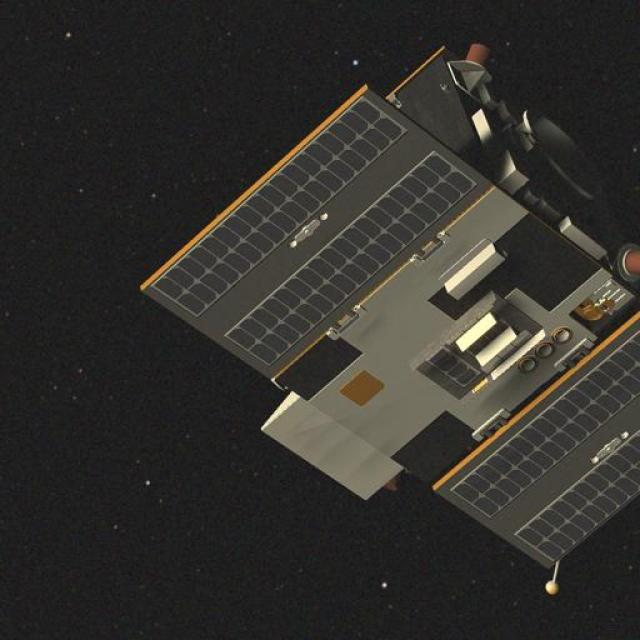proba_2: (162, 77, 640, 566)
